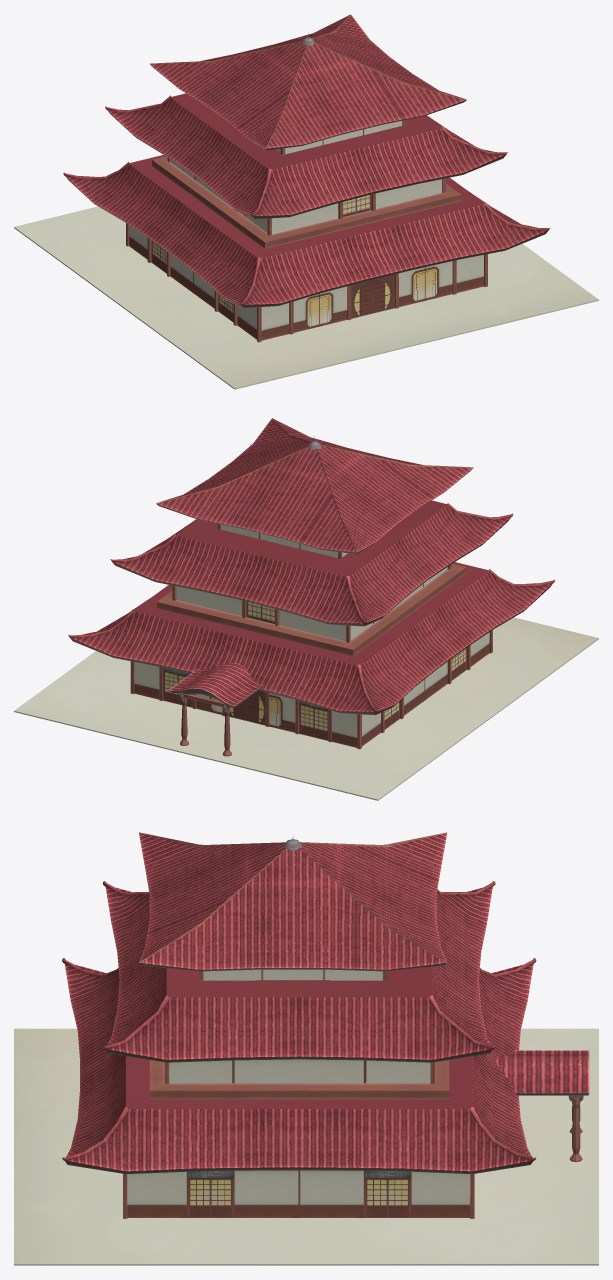
Rendered from NNJ0110006.fbx.
The picture shows the model from 3 angles, top to bottom: view 1: azimuth 30°, elevation 25°; view 2: azimuth 150°, elevation 25°; view 3: azimuth 270°, elevation 25°; orthographic projection. The views are drawn at different scales.
Parts seen in each view (by area): view 1: smNNJ0110006; view 2: smNNJ0110006; view 3: smNNJ0110006.
Part boxes in pixels (box(x1,y1,x2,y2)): smNNJ0110006: box(14, 14, 598, 389); smNNJ0110006: box(14, 418, 598, 800); smNNJ0110006: box(14, 832, 598, 1265).
Bounding box in the file's own units: 2486 × 1576 × 2611.
1 material, 1 textured.
